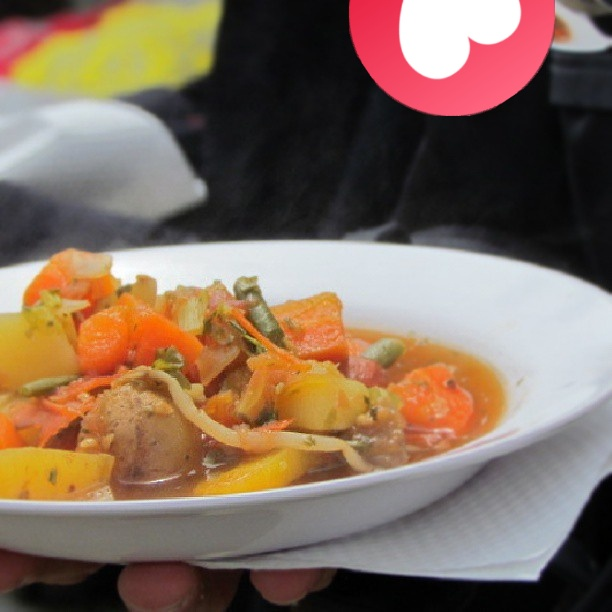love: (349, 0, 555, 116)
